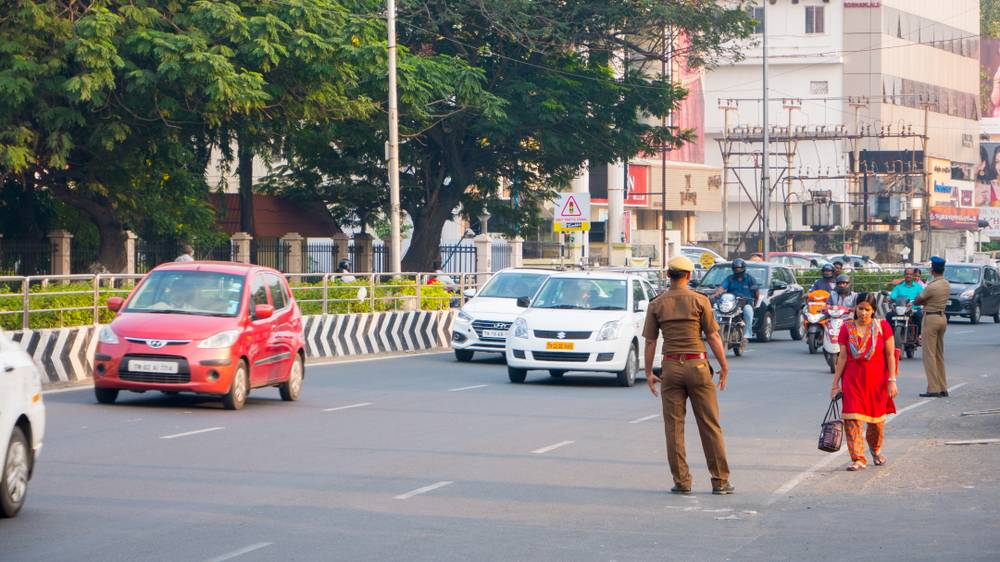bike: (716, 262, 758, 357)
car: (95, 261, 306, 409), (508, 272, 648, 385)
person: (644, 257, 734, 493), (830, 295, 898, 469), (918, 259, 948, 399)
